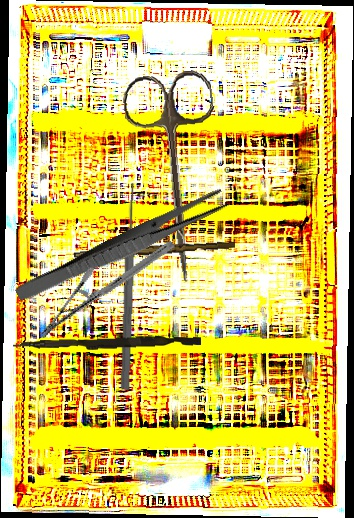Dressing Forceps: (13, 186, 230, 308)
Iris Scissors: (120, 68, 235, 287)
Needle Holder: (37, 207, 177, 372)
Pusher: (118, 181, 140, 390), (12, 332, 202, 355)
Scalpel Handle: (73, 238, 236, 263)
